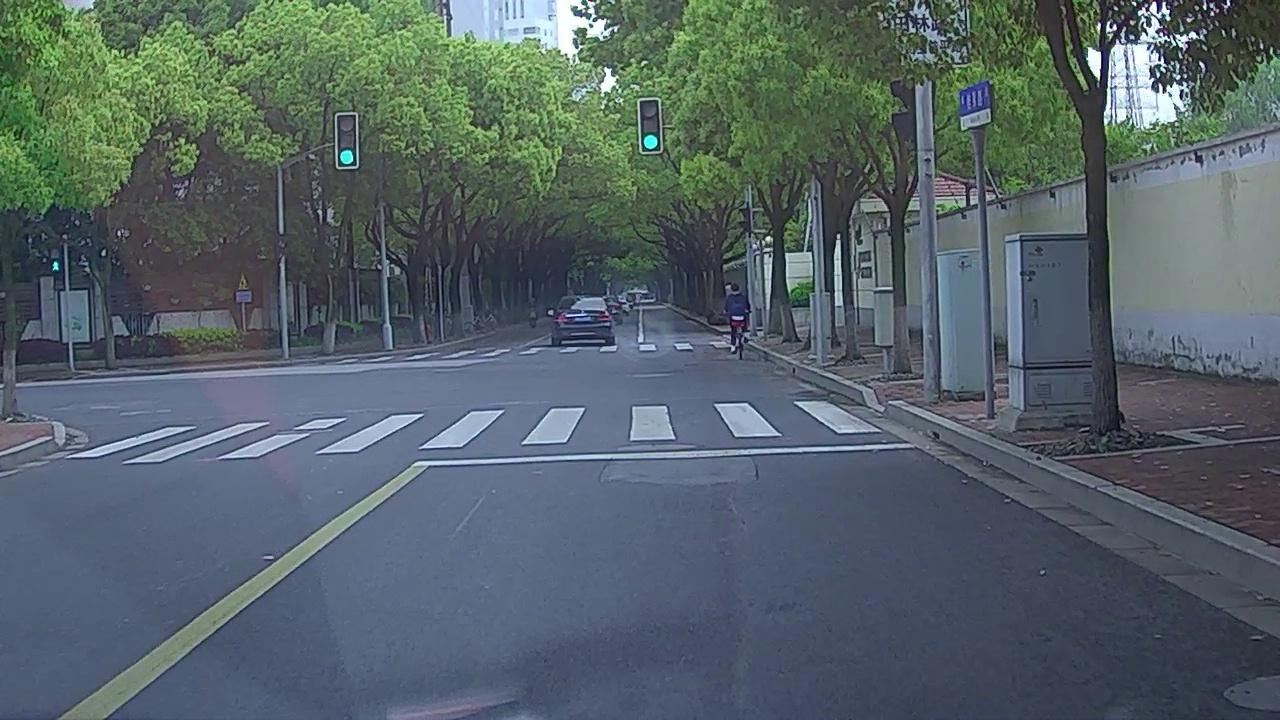traffic_light: (638, 100, 662, 152), (336, 114, 358, 167)
